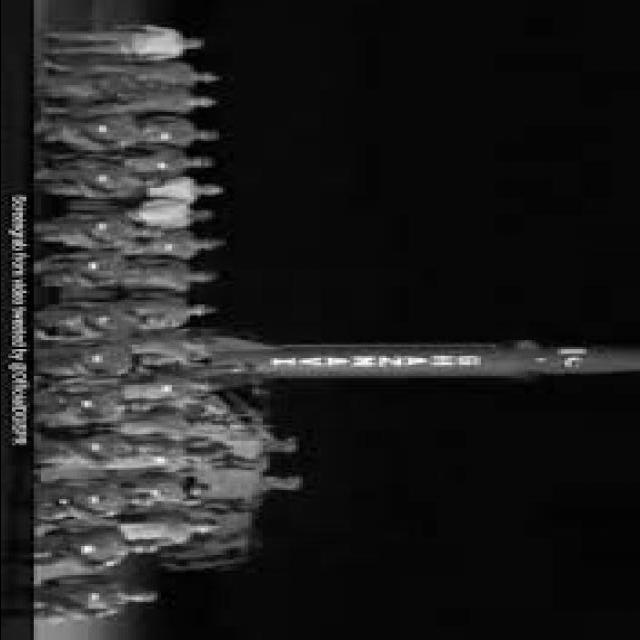Missile: (197, 330, 640, 396)
